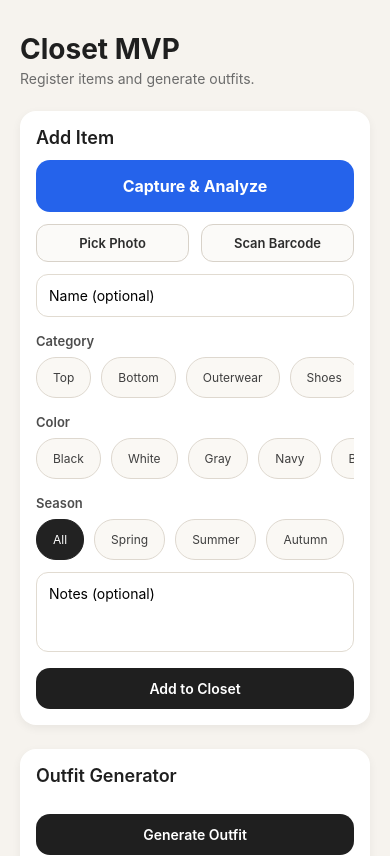
App › adds item when category is selected
Note: Select category
Click the text "Top": (64, 378) [53,370,74,385]
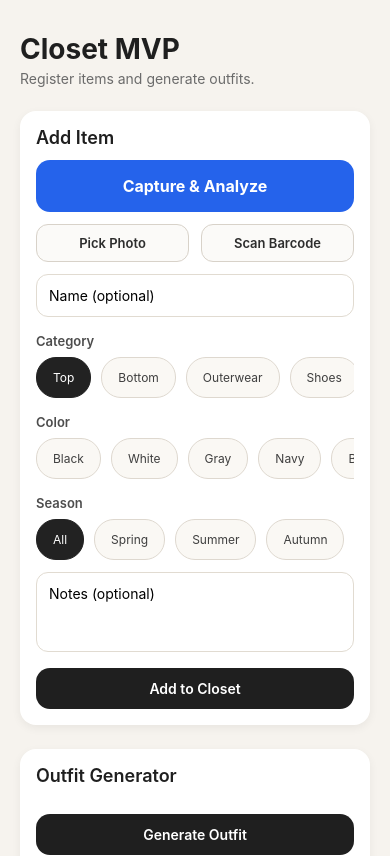
Note: Select color
Click the text "Black": (68, 458) [53,451,84,466]
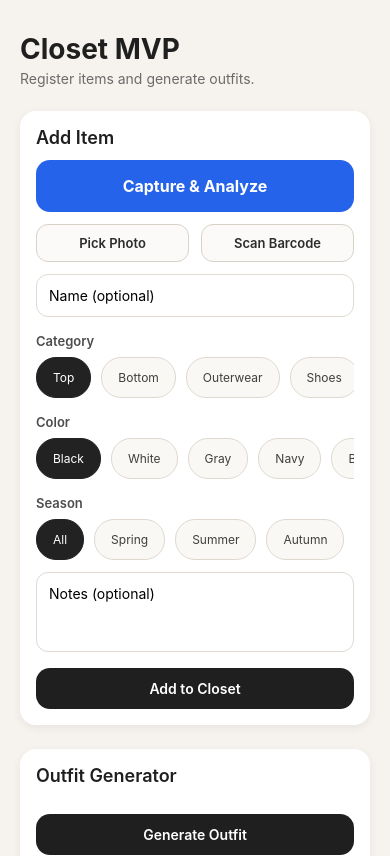
Note: Add item
Click the text "Add to Closet": (195, 688) [149,680,241,697]
(page scrolled)
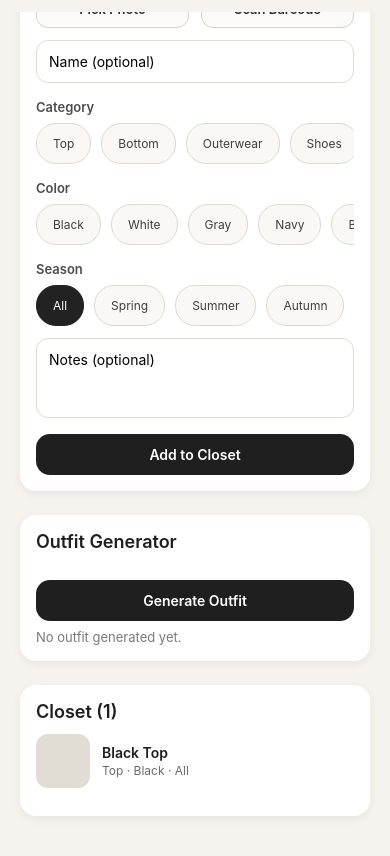
Now the text "Black Top" is shown, box [102,744,168,761]
